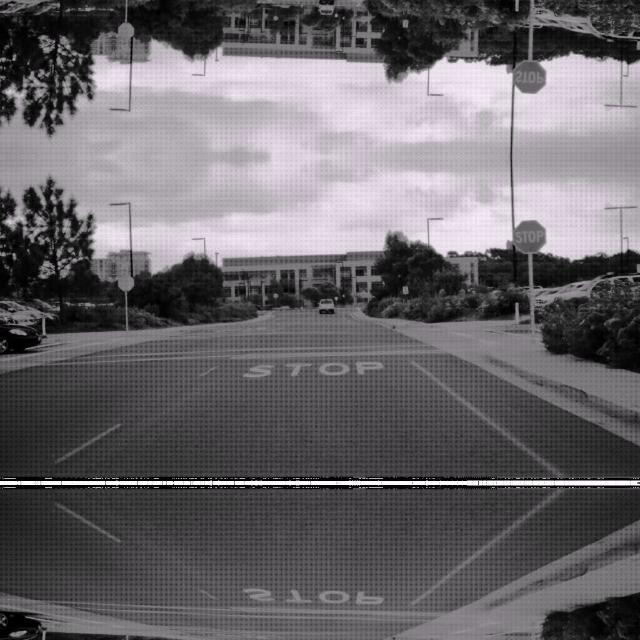stop: (512, 218, 546, 252), (512, 60, 546, 94)
